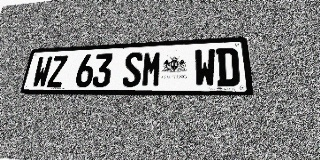3: (92, 53, 113, 87)
6: (75, 54, 96, 87)
D: (216, 47, 240, 87)
M: (141, 51, 162, 87)
S: (122, 52, 143, 87)
W: (194, 48, 216, 87), (31, 56, 53, 88)
Z: (47, 55, 68, 88)
